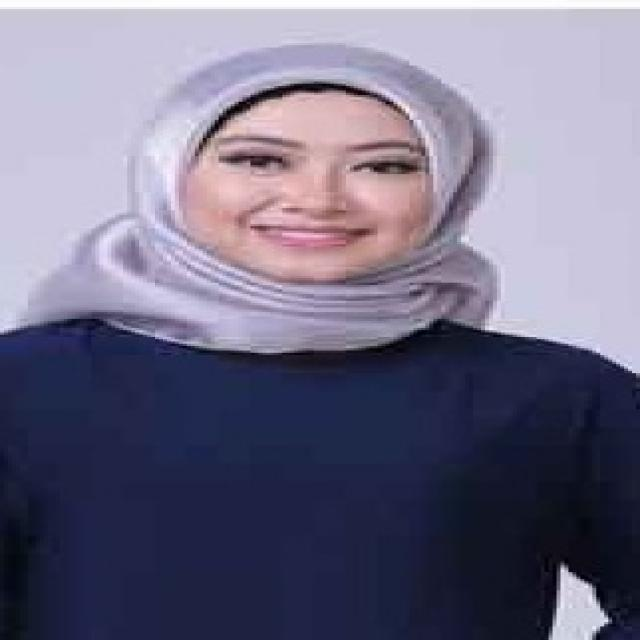head: (106, 24, 543, 316)
